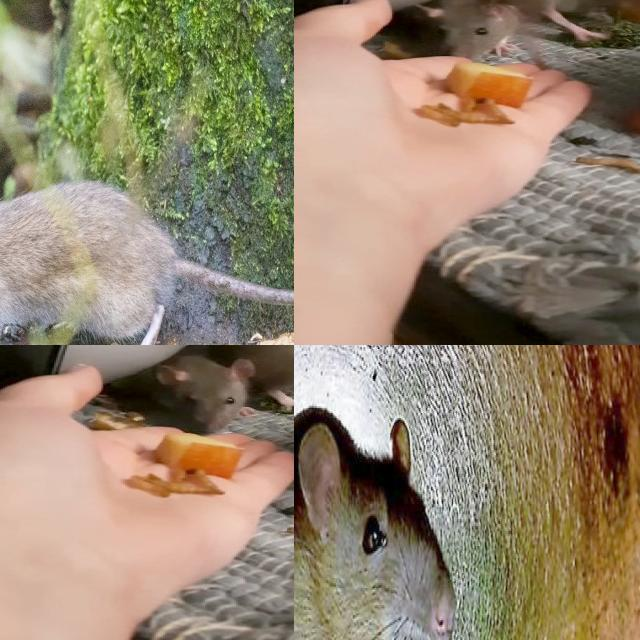rat: (294, 403, 473, 640), (0, 180, 175, 345), (128, 350, 261, 431), (476, 0, 640, 44), (199, 345, 294, 407), (419, 0, 516, 53)
